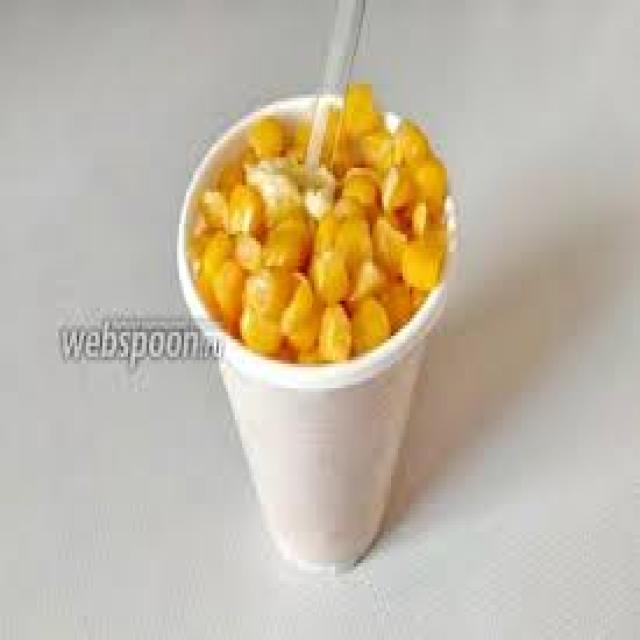corn: (203, 91, 431, 359)
